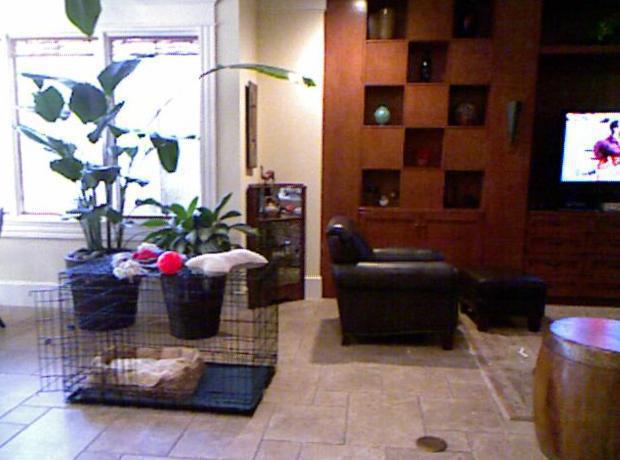Matera: (10, 0, 177, 330), (137, 182, 259, 346)
Otro Obstaculo: (32, 268, 285, 421)
